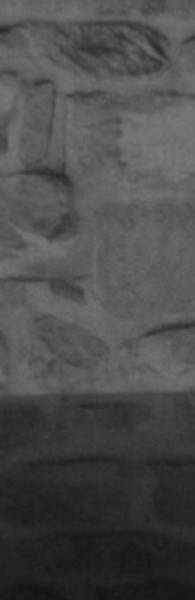water: (0, 396, 195, 600)
